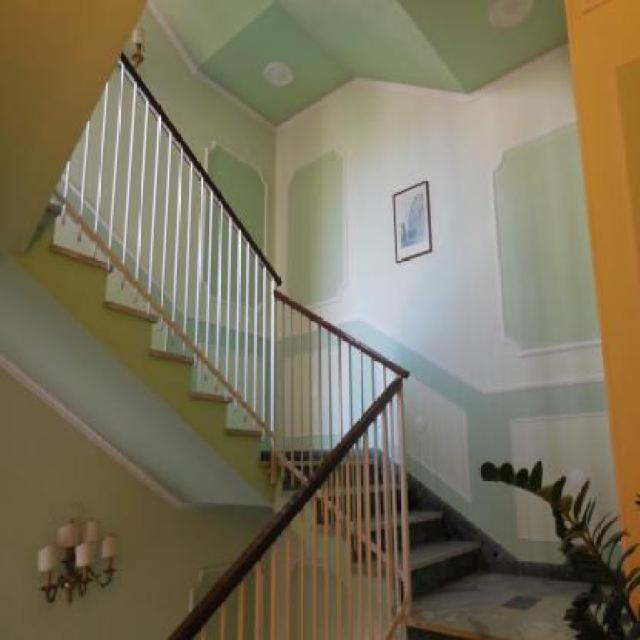stair: (46, 201, 630, 640)
